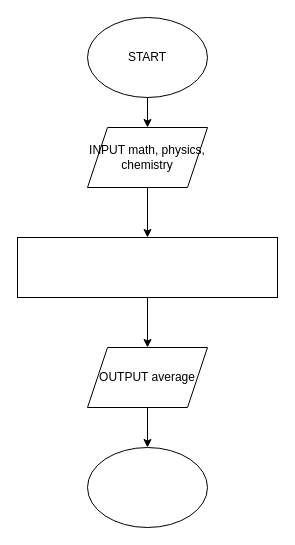
Image size: 295x545. Some labels were removed from this diagram. Here are the shapes that lost their labels. From the top down, the centre of each, then its label:
(147,267): average = (math + physics + chemistry)/3
(147,487): END
